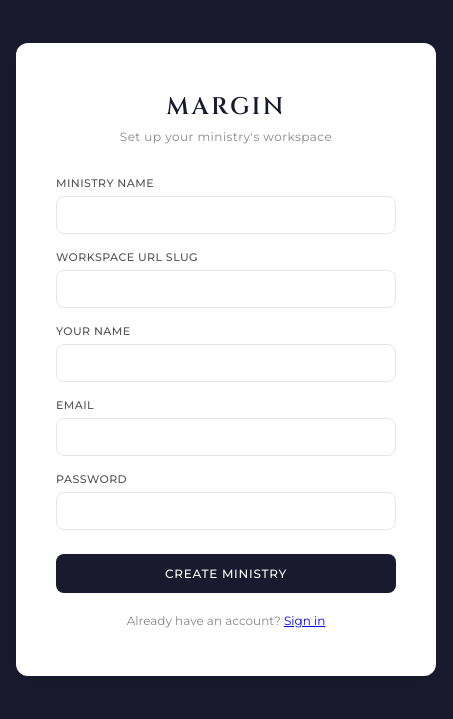
Test: shows an error message when creation fails
The image size is (453, 719).
Step 1. Type "Existing Ministry" into the field below "Ministry name" → (226, 214), box [56,196,396,234]
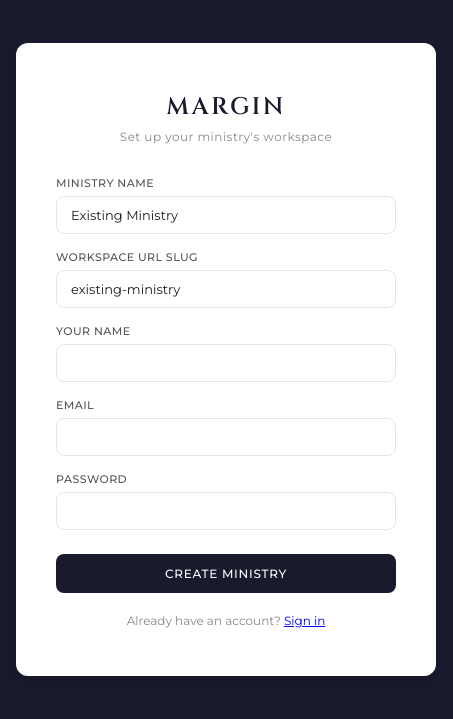
Step 2. Type "Admin" into the field below "Your name" → (226, 362), box [56,344,396,382]
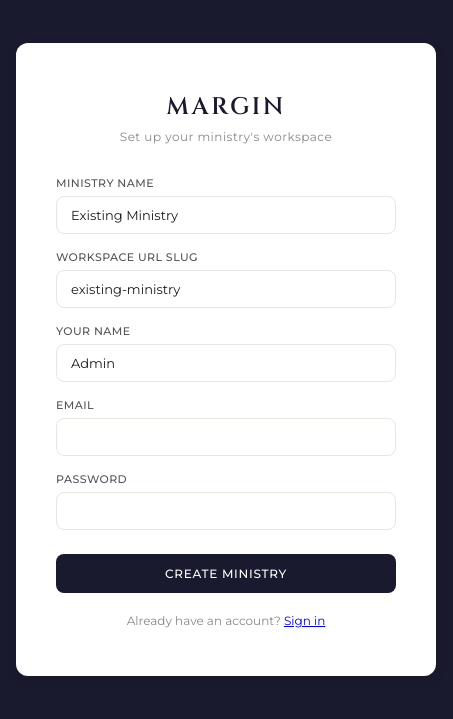
Step 3. Type "admin@existing.com" into the field below "Email" → (226, 436), box [56,418,396,456]
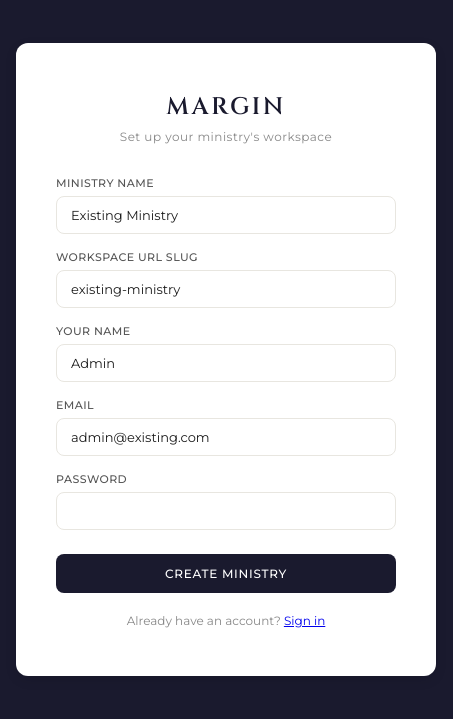
Step 4. Type "Password123" into the password field → (226, 510), box [56,492,396,530]
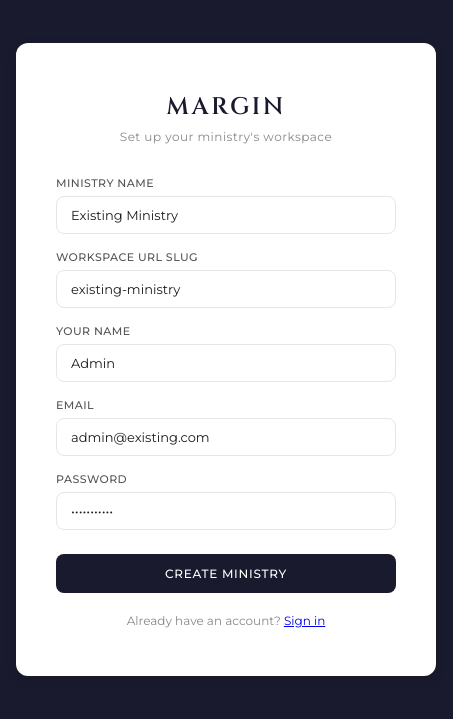
Step 5. Click the button "Create ministry" → (226, 573), box [56,554,396,592]
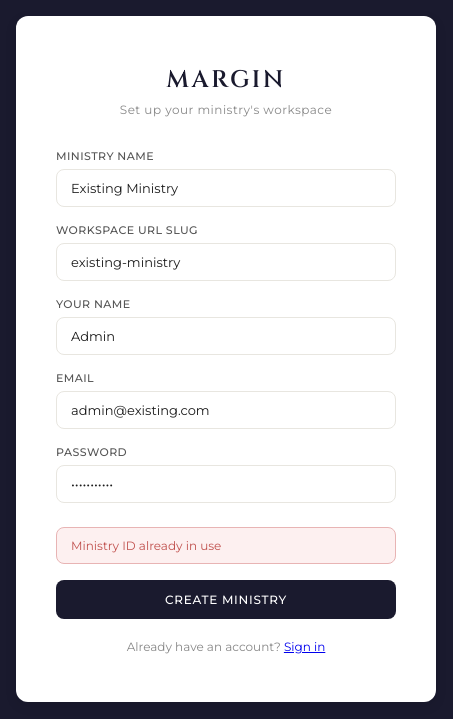
Expected: the text "Ministry ID already in use" is shown, [56,527,396,564]
